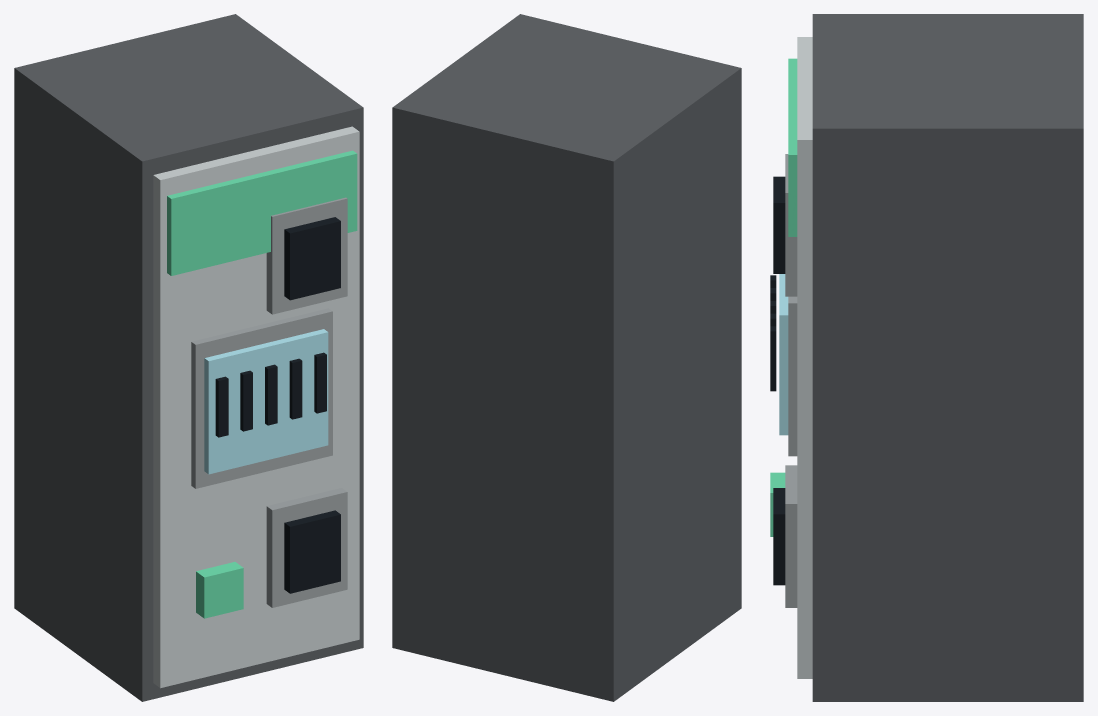
File: accura_2350_1p.glb
3 views of the same model, side by side, from view 1: azimuth 30°, elevation 25°; view 2: azimuth 150°, elevation 25°; view 3: azimuth 270°, elevation 25° (orthographic). The views are drawn at different scales.
Visible parts, largest first — view 1: meter body, front face, type label, LCD, network socket rim (×2), network socket (×2), display frame, LCD segment (×5), button; view 2: meter body; view 3: meter body, front face, network socket rim (×2), network socket (×2), type label, display frame, LCD.
Boxes of the visible parts, box(x1,y1,x2,y2) form: meter body: box(14, 14, 363, 701); front face: box(153, 126, 359, 688); type label: box(167, 150, 357, 275); LCD: box(204, 329, 328, 474); network socket rim (×2): box(266, 197, 347, 607); network socket (×2): box(284, 217, 340, 593); display frame: box(191, 308, 332, 488); LCD segment (×5): box(215, 352, 326, 437); button: box(196, 562, 243, 618); meter body: box(392, 14, 741, 701); meter body: box(812, 14, 1083, 701); front face: box(797, 37, 812, 678); network socket rim (×2): box(785, 154, 797, 607); network socket (×2): box(773, 176, 785, 585); type label: box(788, 58, 797, 236); display frame: box(788, 296, 797, 456); LCD: box(779, 274, 788, 435).
Bounding box in the file's own units: 0.045 × 0.105 × 0.052.
